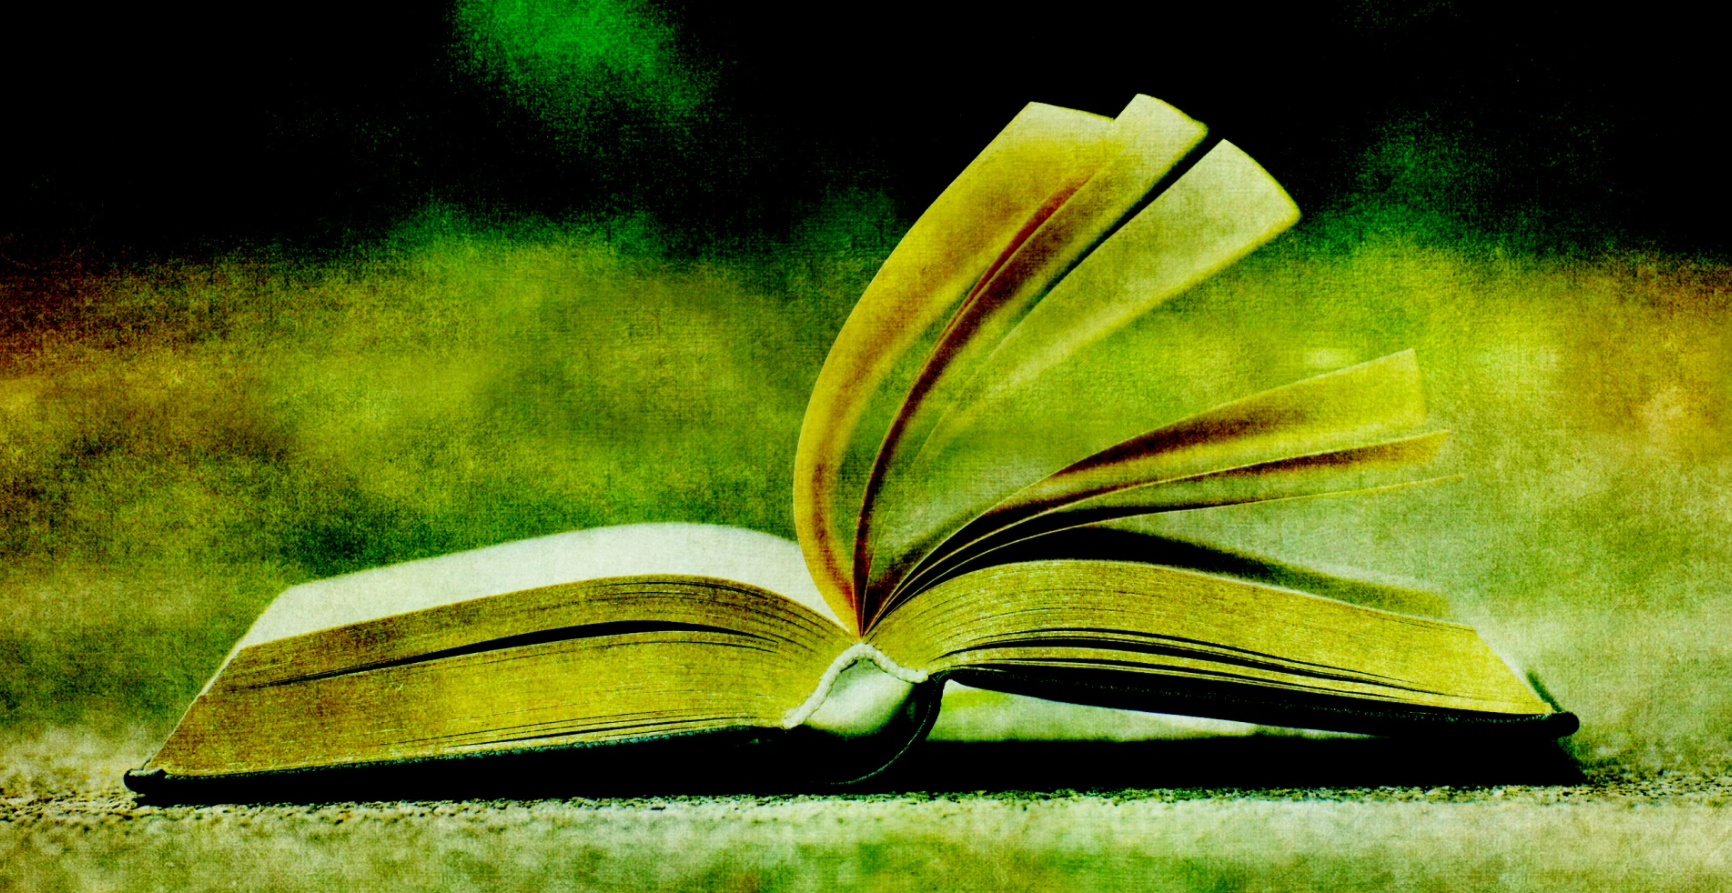book: (136, 84, 1586, 794)
